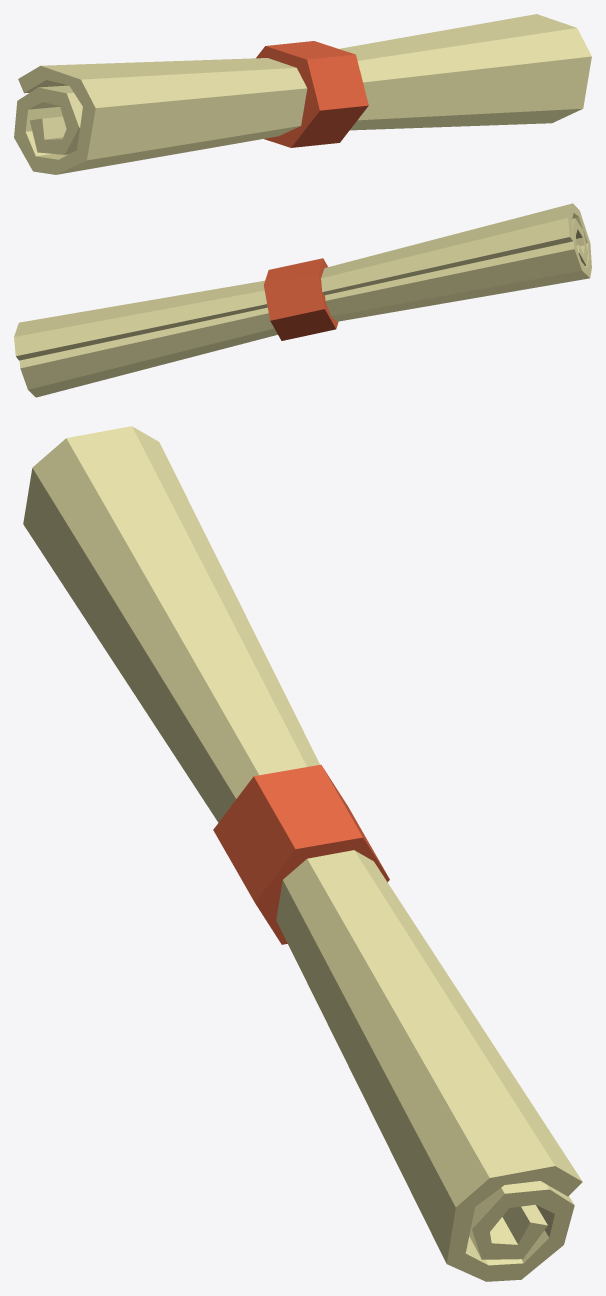
File: mail.fbx
3 views of the same model, one above another, from view 1: azimuth 30°, elevation 25°; view 2: azimuth 150°, elevation 25°; view 3: azimuth 270°, elevation 25° (orthographic). The views are drawn at different scales.
Parts seen in each view (by area): view 1: 큐브.001, 실린더.003; view 2: 큐브.001, 실린더.003; view 3: 큐브.001, 실린더.003.
Boxes of the visible parts, x1,y1,x2,y2 form: 큐브.001: (14, 14, 591, 174); 실린더.003: (256, 41, 368, 147); 큐브.001: (14, 203, 591, 397); 실린더.003: (263, 258, 338, 340); 큐브.001: (23, 426, 582, 1281); 실린더.003: (213, 764, 389, 944).
Bounding box in the file's own units: 38.16 × 16.39 × 19.36.
